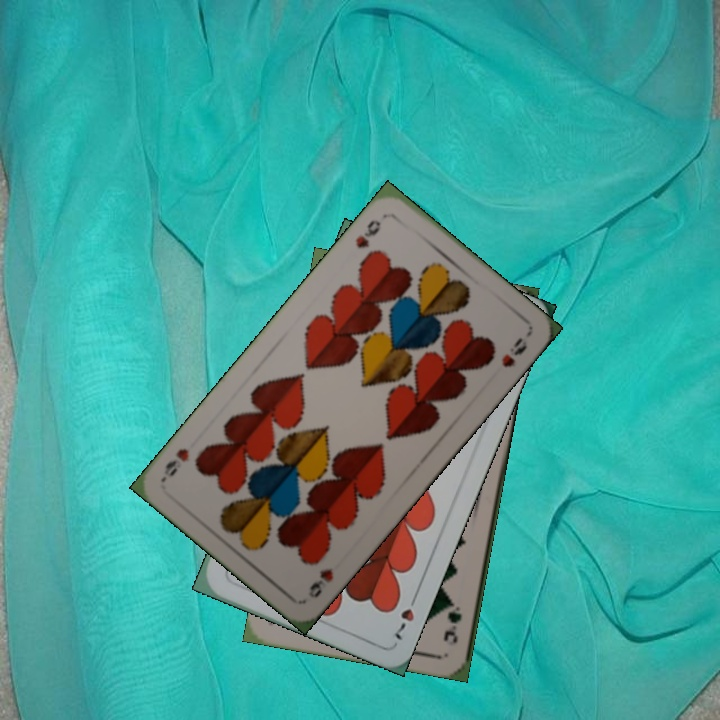G9: (439, 595, 465, 646)
H7: (390, 588, 421, 643)
H9: (304, 563, 336, 601), (351, 215, 383, 251)
